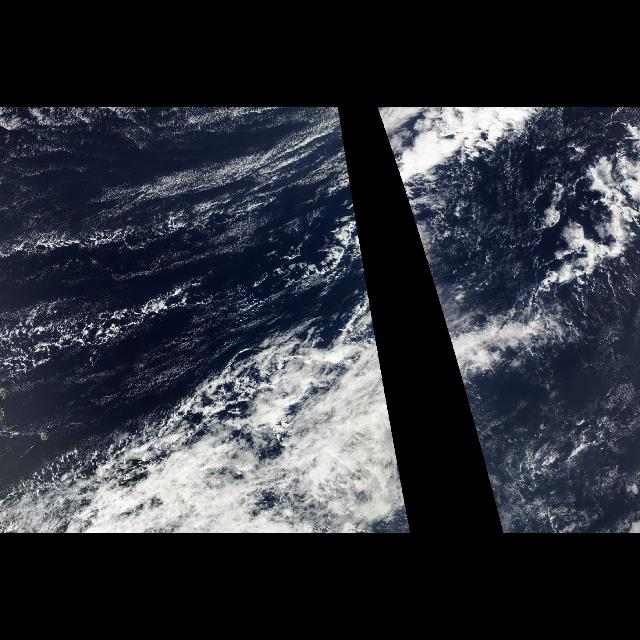Gravel: (7, 218, 223, 362)
Sugar: (8, 110, 338, 214)
